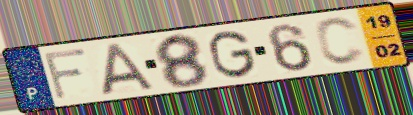6: (265, 22, 315, 73)
8: (152, 31, 213, 90)
A: (100, 41, 156, 97)
C: (312, 15, 368, 67)
F: (41, 46, 90, 102)
G: (207, 28, 259, 80)
